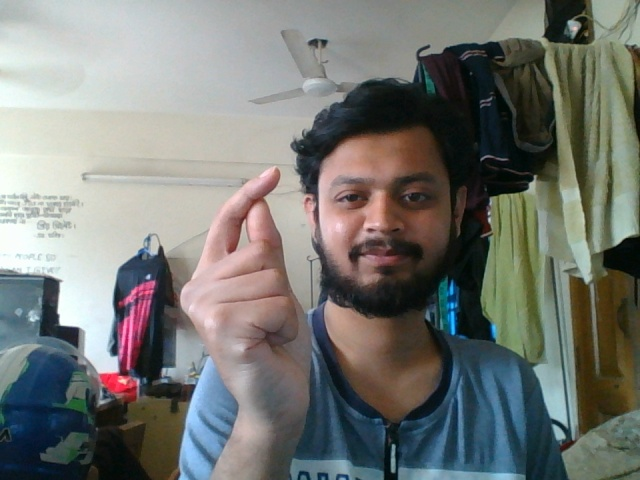tha: (178, 162, 323, 456)
